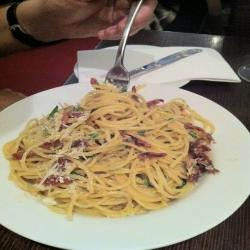carbonara: (8, 83, 231, 223)
